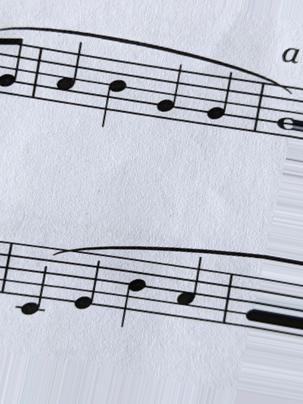A: (53, 38, 87, 114), (173, 253, 205, 324)
B: (99, 52, 129, 132), (117, 251, 147, 330)
E: (70, 250, 104, 315)
G: (204, 68, 235, 138), (154, 62, 184, 127)
LC: (14, 240, 51, 322)
